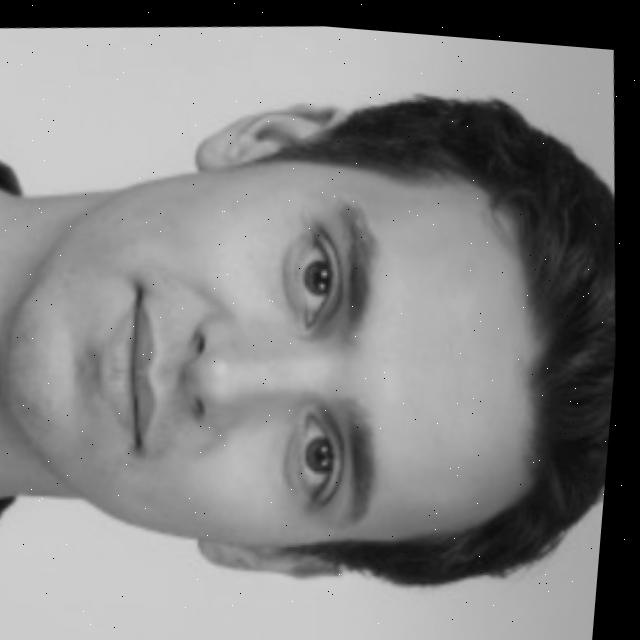natural: (13, 56, 637, 613)
